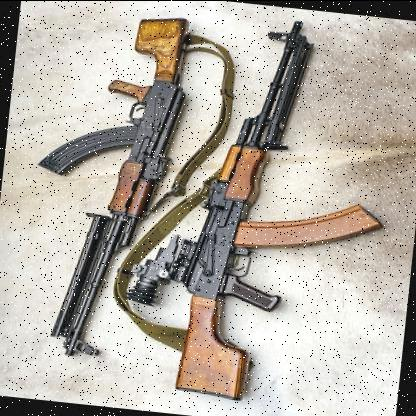rifle: (139, 7, 406, 416), (10, 0, 230, 372)
